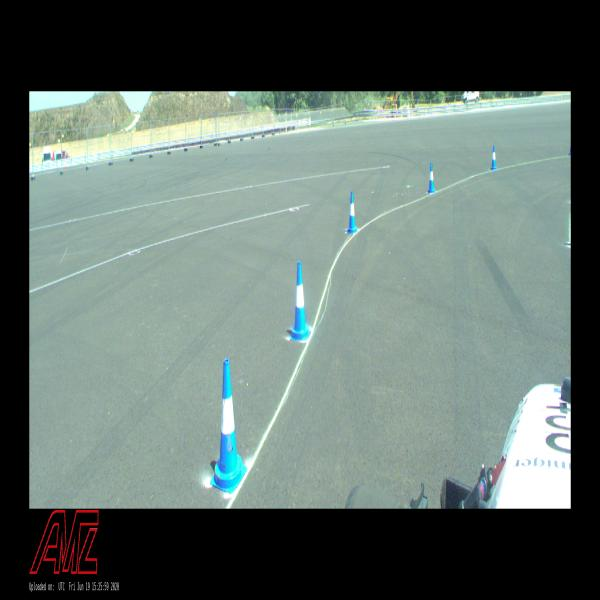blue_cone: (210, 359, 247, 494), (290, 262, 310, 339), (348, 192, 357, 232), (428, 163, 435, 192), (491, 146, 497, 170)
